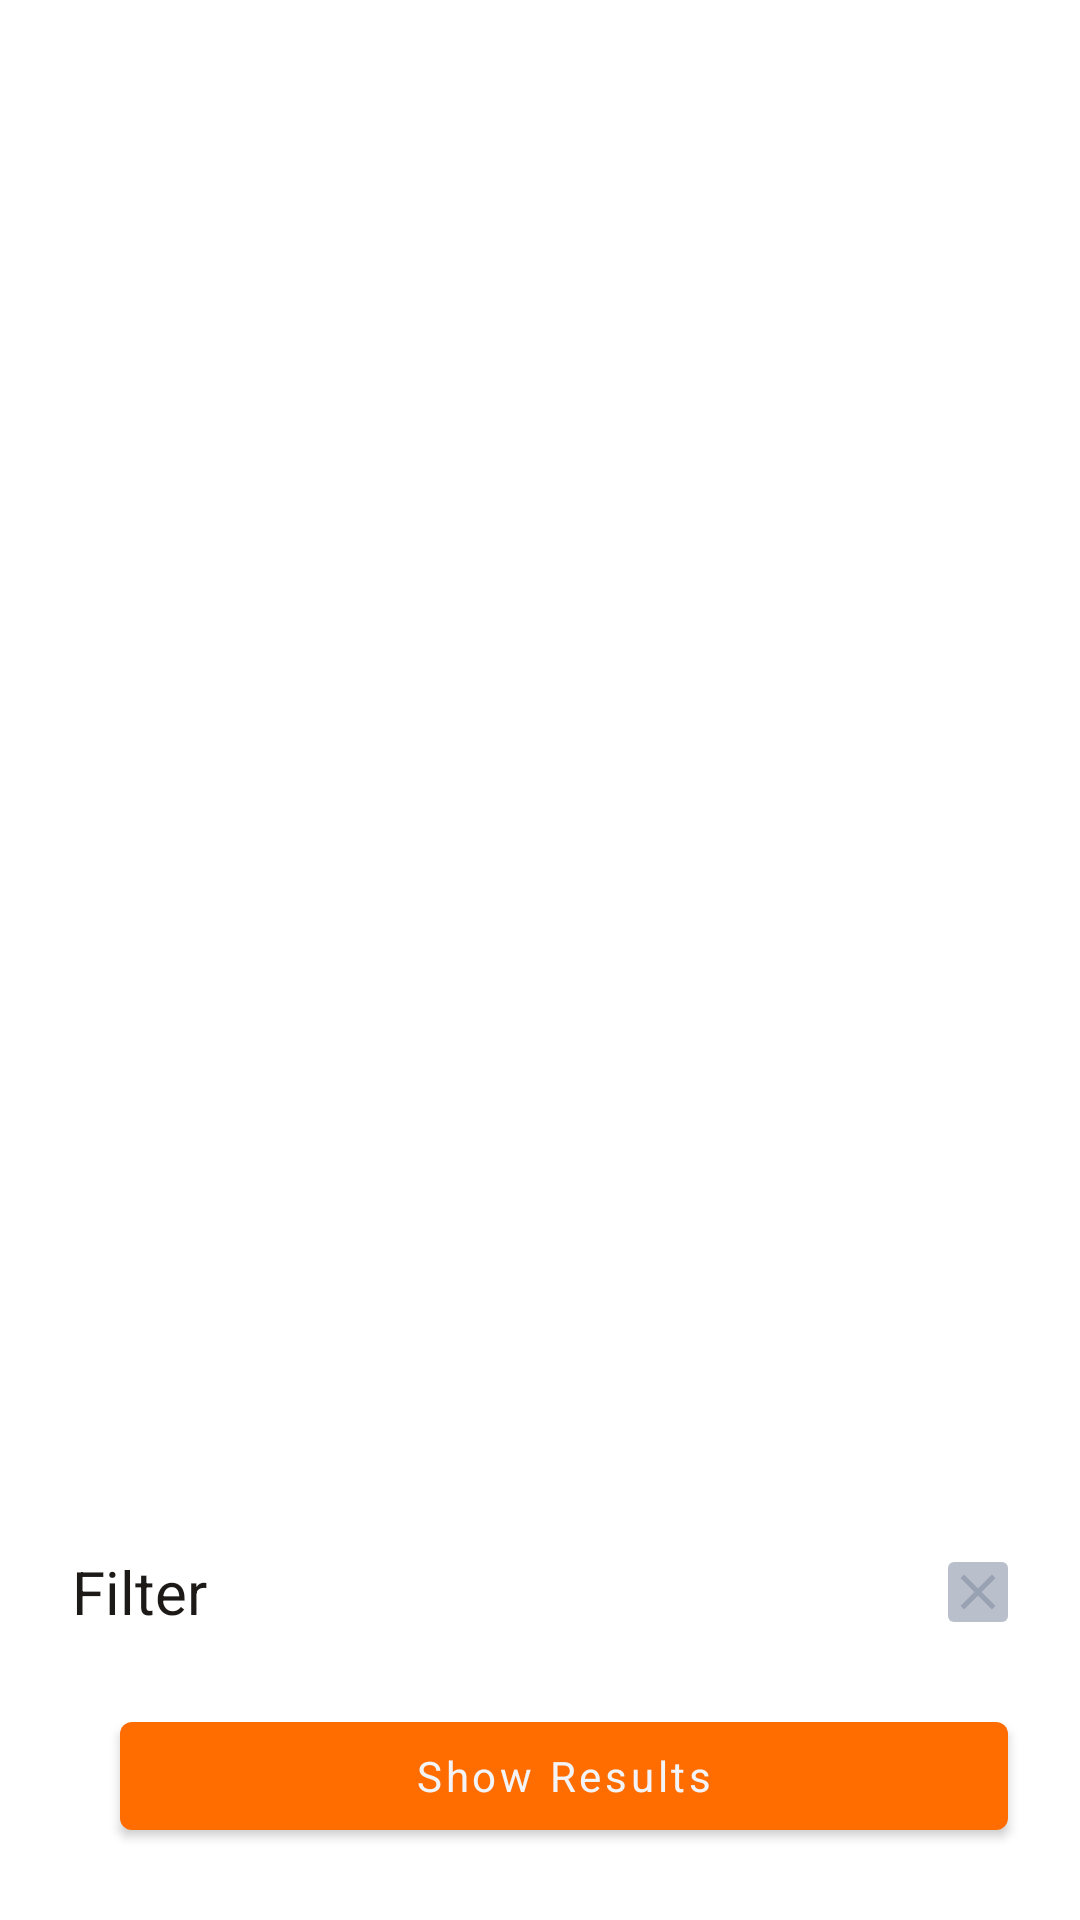

Icon click points for this 1080px×1920px phone screenshot, format [x,y]:
clear: [978,1592]
